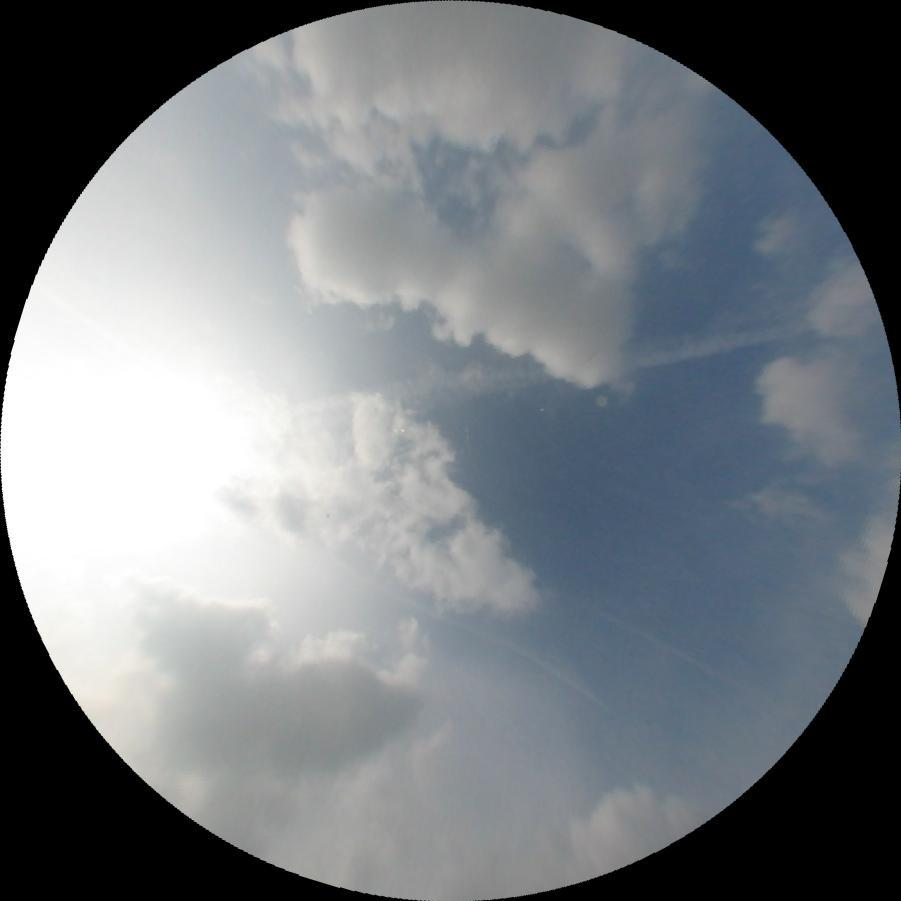contrail veryold: (287, 291, 809, 448), (539, 585, 756, 691)
unknow: (322, 551, 621, 710)
